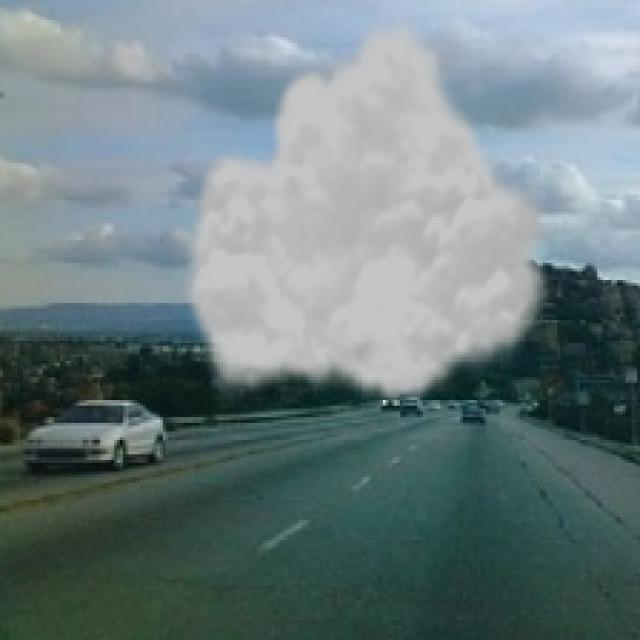smoke: (177, 11, 560, 406)
